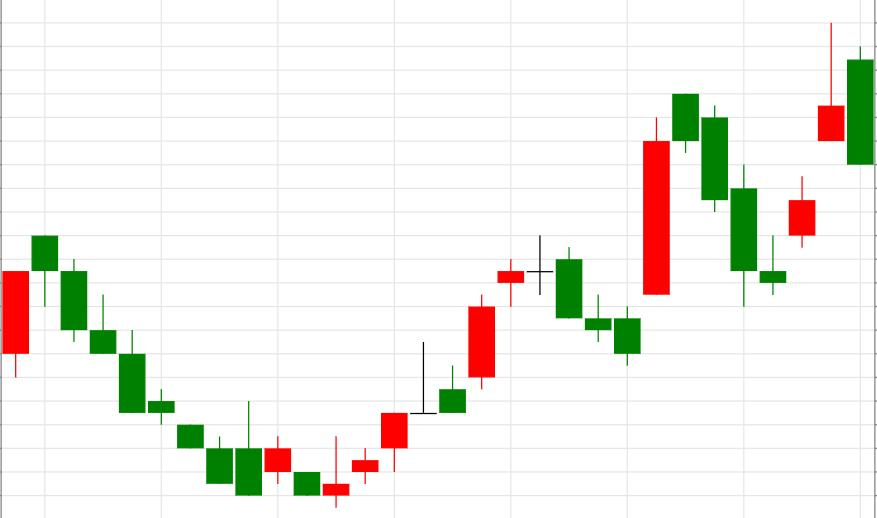three_black_crows_fall: (614, 92, 757, 365)
